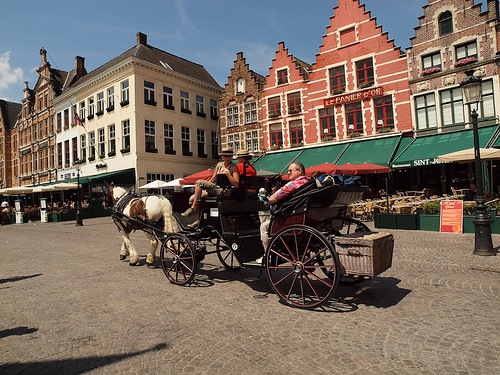horse: (99, 180, 176, 262)
